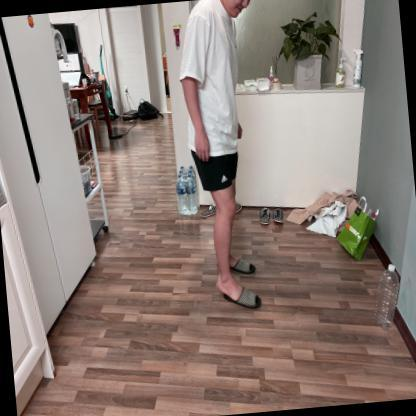no_safety-shoe: (210, 269, 271, 325)
